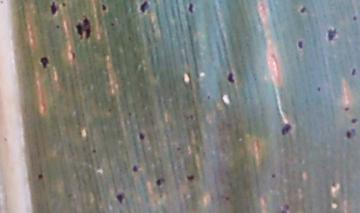tarspot: (71, 13, 95, 43), (277, 120, 295, 138), (183, 1, 201, 19), (35, 53, 52, 71), (111, 188, 128, 204), (46, 1, 62, 17), (323, 27, 340, 42), (342, 125, 357, 142), (136, 1, 152, 16), (294, 35, 307, 53), (128, 161, 143, 176), (151, 175, 168, 188), (183, 170, 198, 184), (224, 70, 239, 84), (295, 1, 309, 16), (278, 200, 292, 213), (33, 170, 48, 182), (96, 3, 112, 14), (347, 64, 358, 80), (135, 129, 147, 143), (347, 113, 359, 125), (348, 12, 359, 24), (312, 84, 325, 94), (90, 144, 99, 158), (328, 180, 340, 190), (104, 105, 116, 115), (341, 103, 351, 114), (124, 107, 133, 119), (269, 169, 278, 180), (222, 193, 233, 202)
